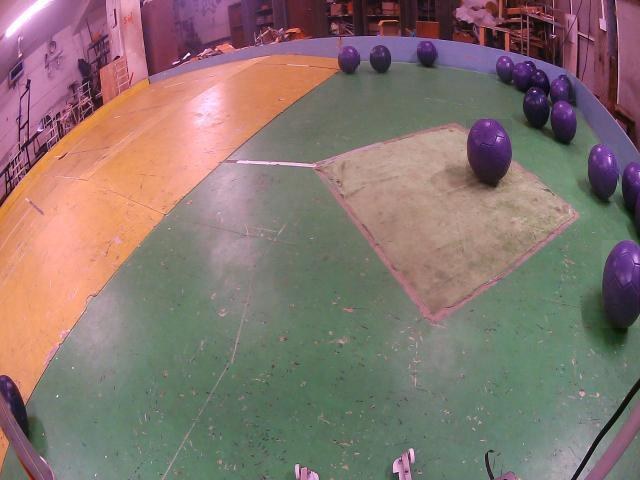jambhalya: (603, 240, 640, 328), (467, 120, 512, 186), (588, 145, 618, 201), (550, 100, 576, 143), (621, 162, 640, 213), (339, 45, 359, 73), (513, 63, 531, 92), (496, 55, 514, 83), (417, 41, 437, 66), (550, 79, 570, 103)
kaalyya: (523, 89, 550, 128), (370, 45, 391, 73), (530, 70, 550, 96), (559, 73, 574, 101), (524, 61, 536, 71)
